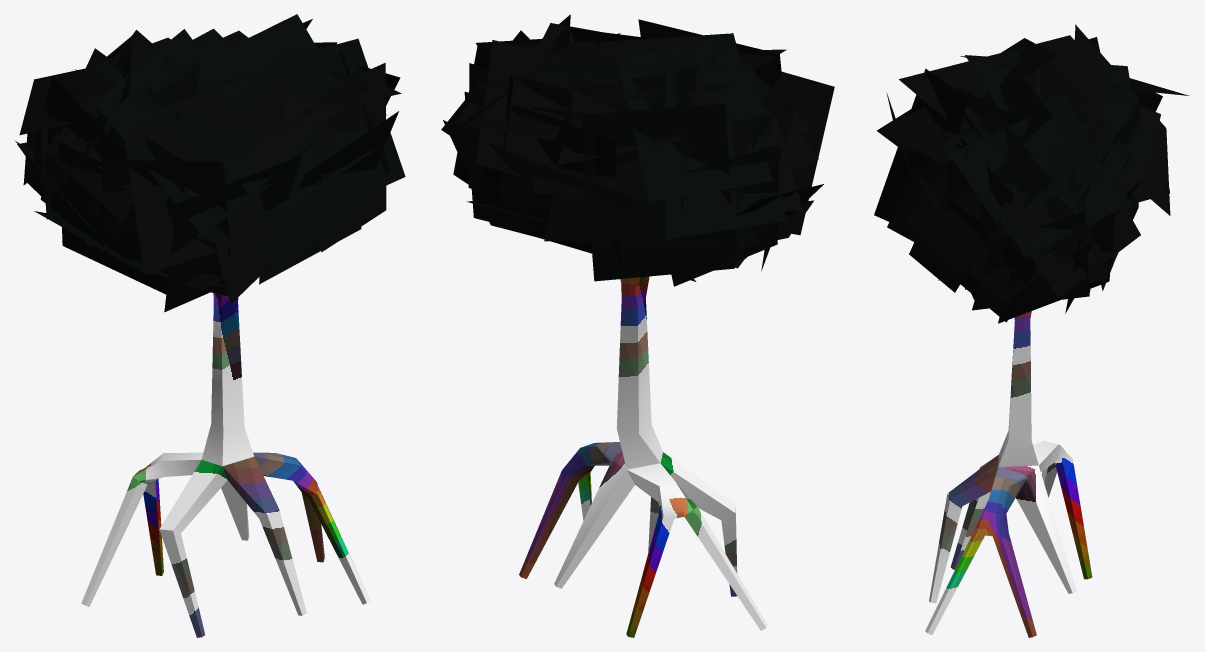
The model's file is LargeLeafedOrangeMangrovefFluffy.fbx.
3 renders of one model, left to right at view 1: azimuth 30°, elevation 25°; view 2: azimuth 150°, elevation 25°; view 3: azimuth 270°, elevation 25°, orthographic. The views are drawn at different scales.
Parts seen in each view (by area): view 1: LargeLeafedOrangeMangrove.004; view 2: LargeLeafedOrangeMangrove.004; view 3: LargeLeafedOrangeMangrove.004.
Part boxes in pixels (x1=…): LargeLeafedOrangeMangrove.004: x1=15, y1=14, x2=405, y2=637; LargeLeafedOrangeMangrove.004: x1=441, y1=14, x2=834, y2=637; LargeLeafedOrangeMangrove.004: x1=874, y1=24, x2=1189, y2=637.
Size of the model in its own units: 229 by 363 by 196.
